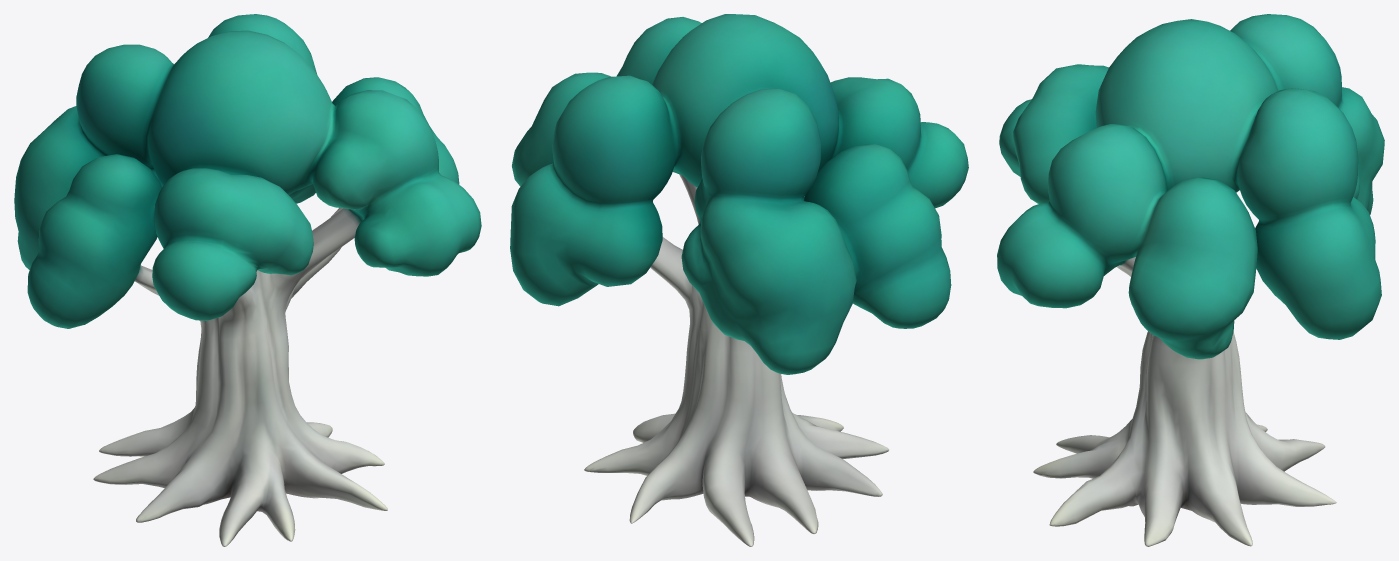
The model's file is ancient_oak.glb.
3 renders of one model, left to right at view 1: azimuth 30°, elevation 25°; view 2: azimuth 150°, elevation 25°; view 3: azimuth 270°, elevation 25°, orthographic. The views are drawn at different scales.
Visible parts, largest first — view 1: model; view 2: model; view 3: model.
Boxes of the visible parts, x1=… form: model: x1=14, y1=14, x2=481, y2=546; model: x1=510, y1=14, x2=968, y2=546; model: x1=997, y1=14, x2=1384, y2=546.
Size of the model in its own units: 1.84 by 1.9 by 1.44.
Materials: 1 (1 with a texture image).
